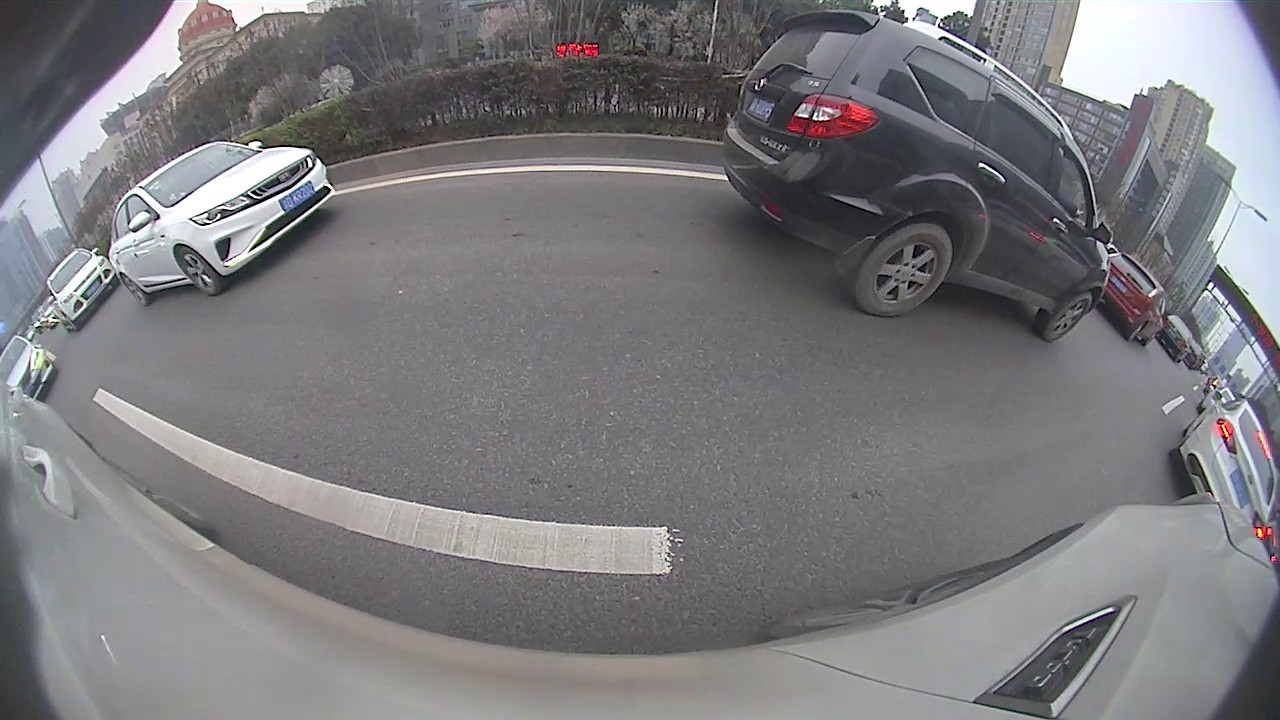car: (718, 9, 1112, 344), (105, 138, 336, 306), (1169, 396, 1278, 548), (1105, 246, 1172, 349), (43, 245, 118, 332), (1, 335, 58, 402)
front: (1041, 290, 1094, 344), (175, 245, 224, 298)
rear: (849, 221, 953, 319), (125, 278, 150, 306), (1127, 321, 1147, 345)
